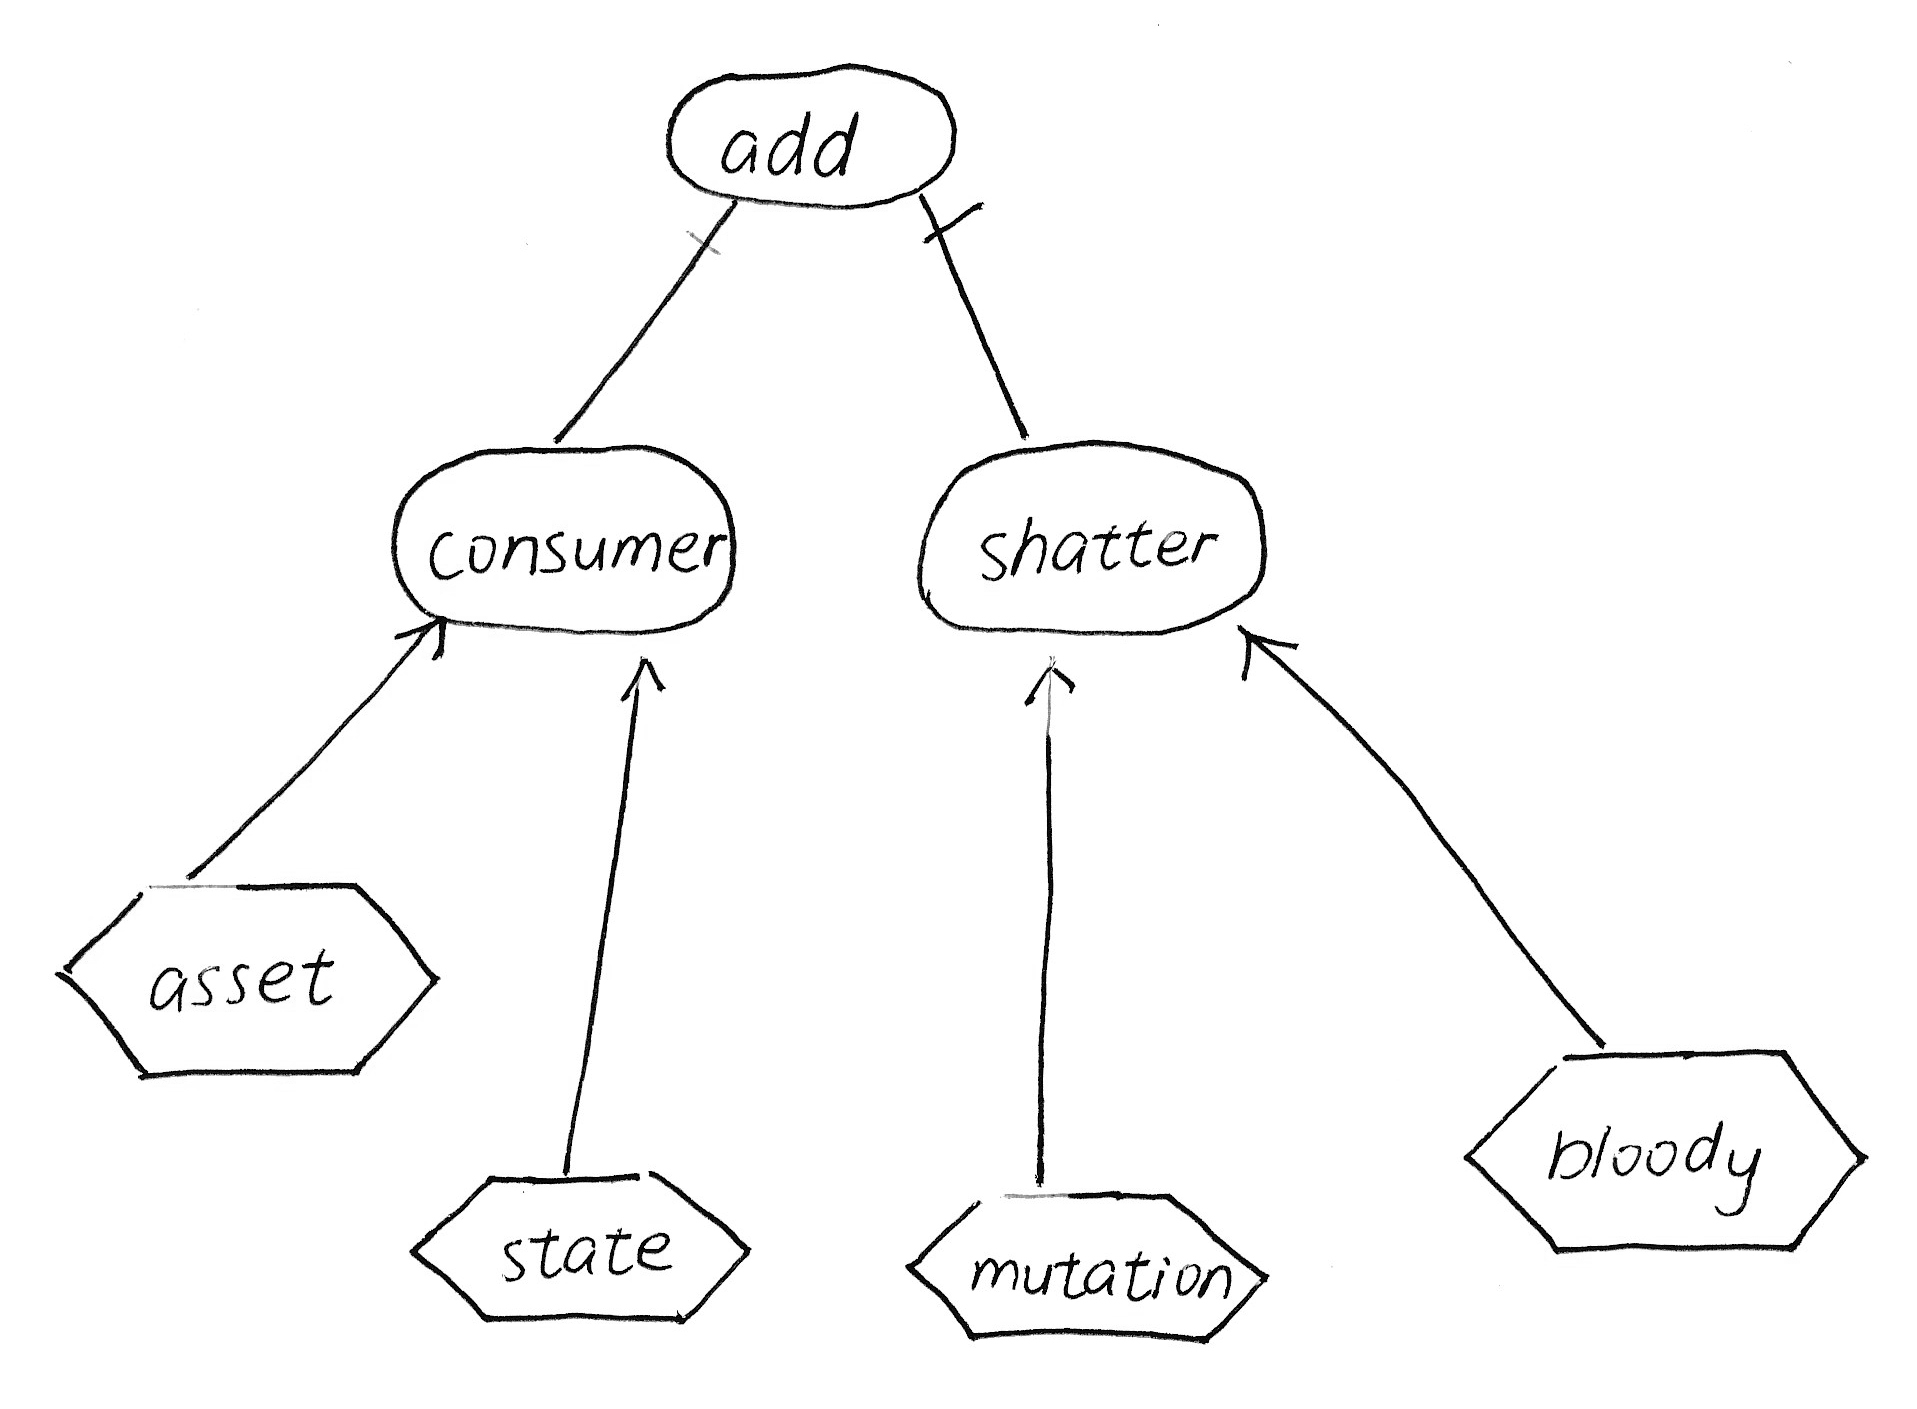and: (909, 184, 993, 251), (677, 193, 749, 269)
arrow: (1226, 612, 1311, 687), (387, 604, 458, 670), (1020, 649, 1086, 713), (612, 652, 674, 710)
goal: (902, 426, 1284, 655), (375, 430, 758, 655), (653, 51, 969, 225)
task: (1450, 1037, 1883, 1269), (36, 861, 452, 1094), (393, 1158, 768, 1341), (892, 1178, 1283, 1352)
